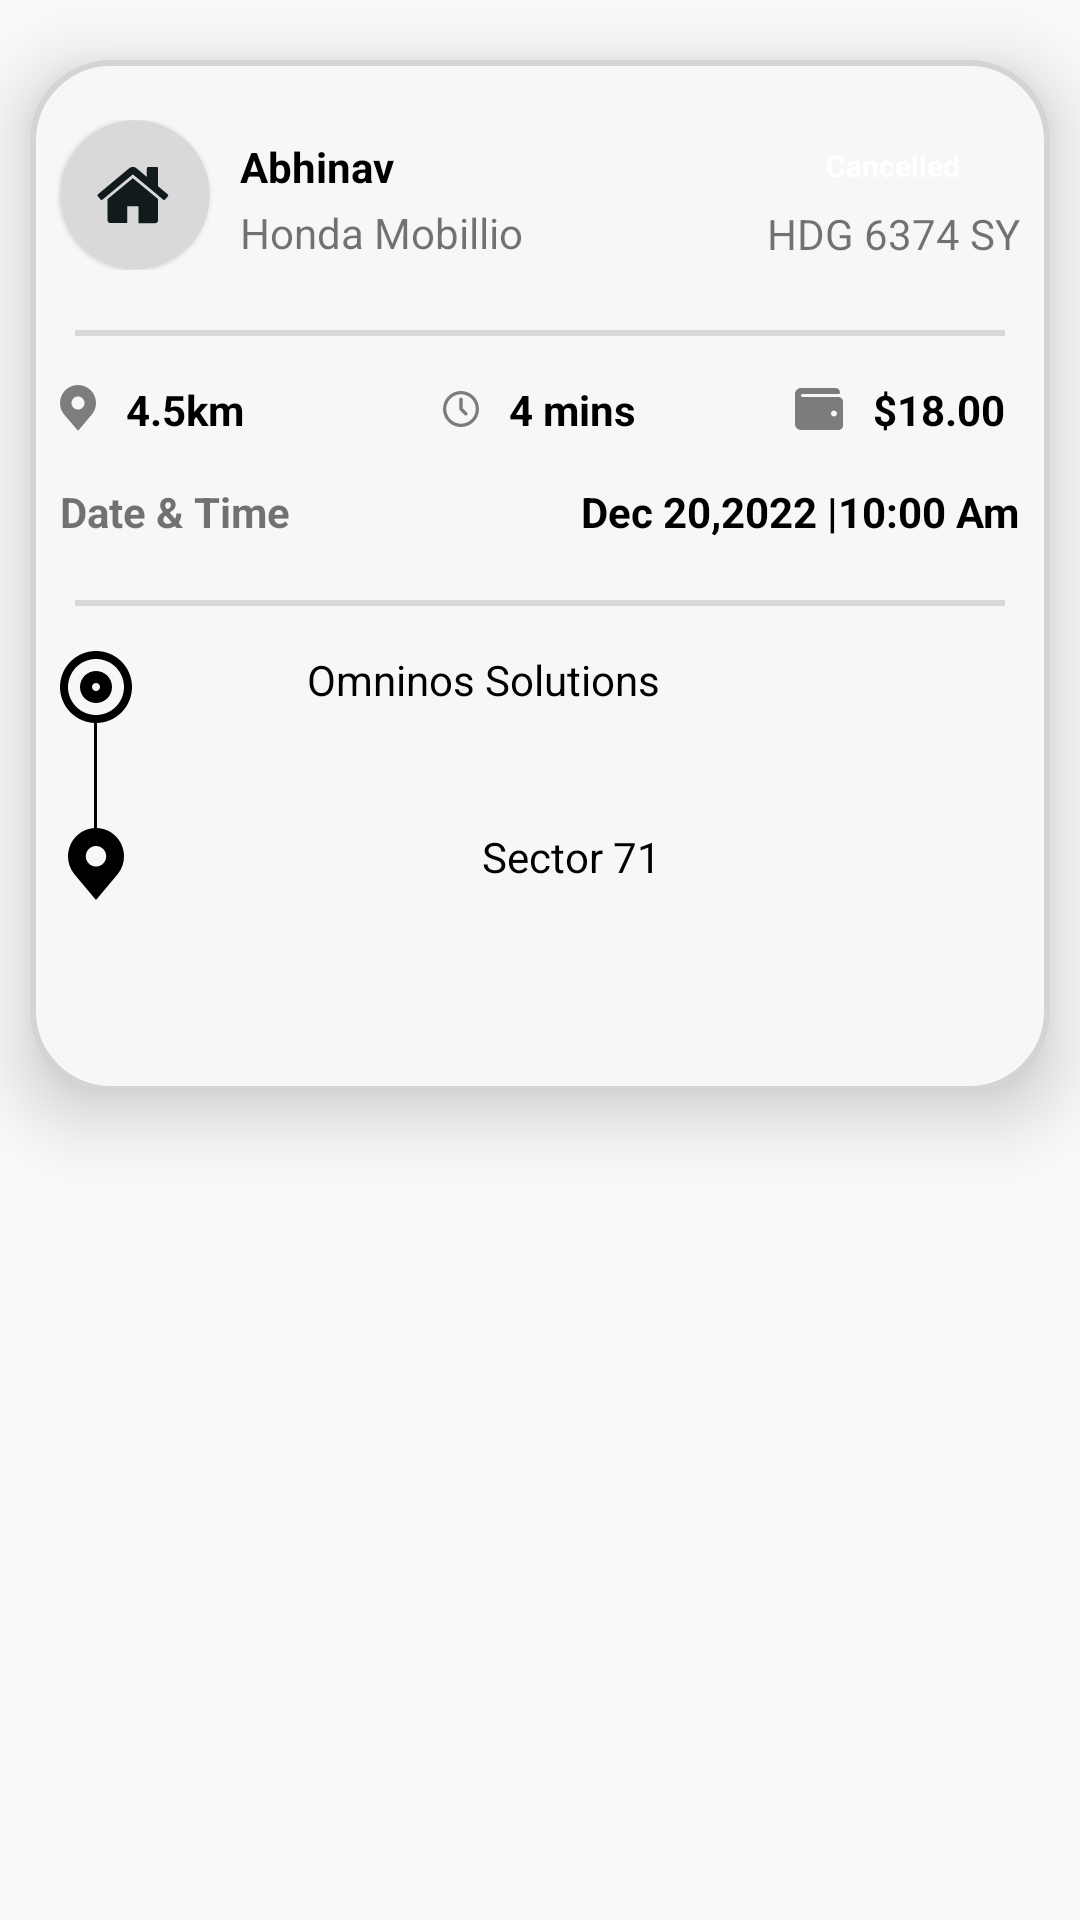

Named icons in this screenshot (1080px×1920px) and their bounding boxes, (x1, y1, x2, y2):
home: (60, 120, 210, 270)
